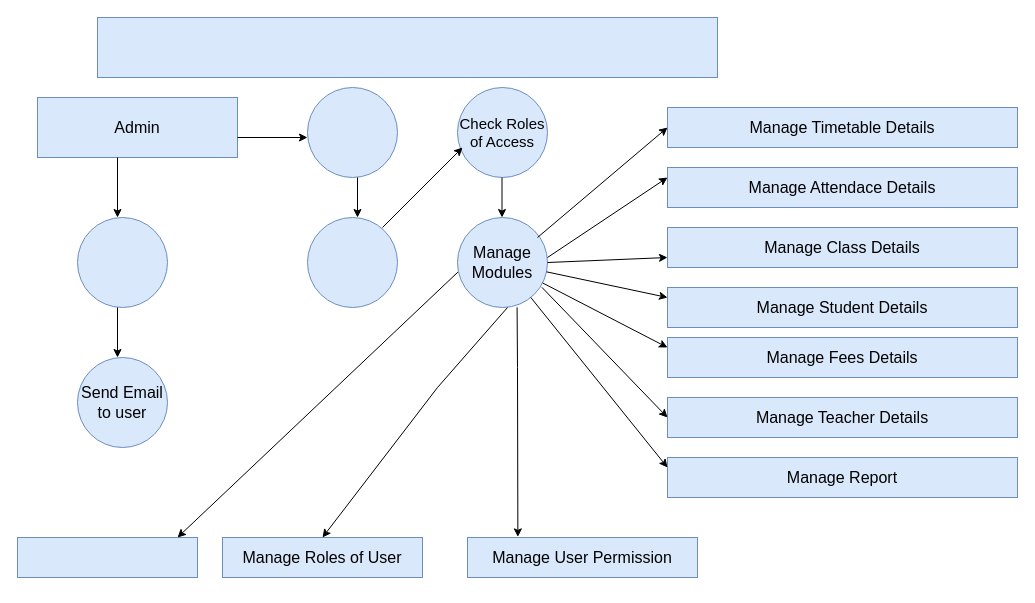
Image size: 1035x603. Some labels were removed from this diagram. Here are the shapes that lost their labels. From the top down, the box of each, then its label:
(96, 16, 718, 78): Student Information system
(306, 86, 398, 178): Login to System
(76, 216, 168, 308): Forgot Password
(306, 216, 398, 308): Check Credentials
(16, 536, 198, 578): Manage System Admins
